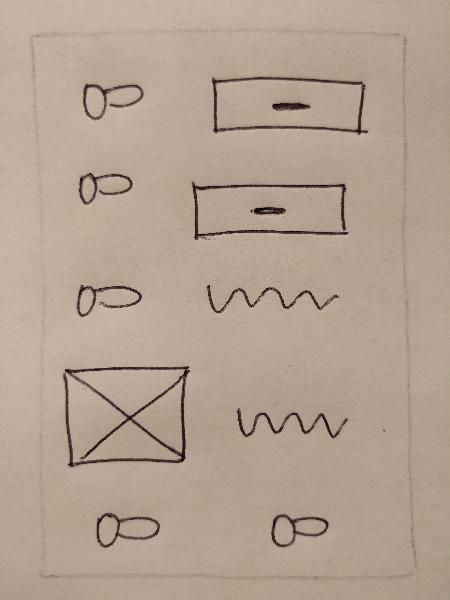image: (56, 356, 193, 475)
switch: (83, 500, 170, 555), (72, 273, 146, 330), (74, 75, 151, 128), (259, 506, 336, 554), (67, 163, 139, 212)
text: (197, 277, 345, 331), (227, 395, 353, 448)
text_input: (184, 173, 361, 248), (196, 69, 377, 142)
